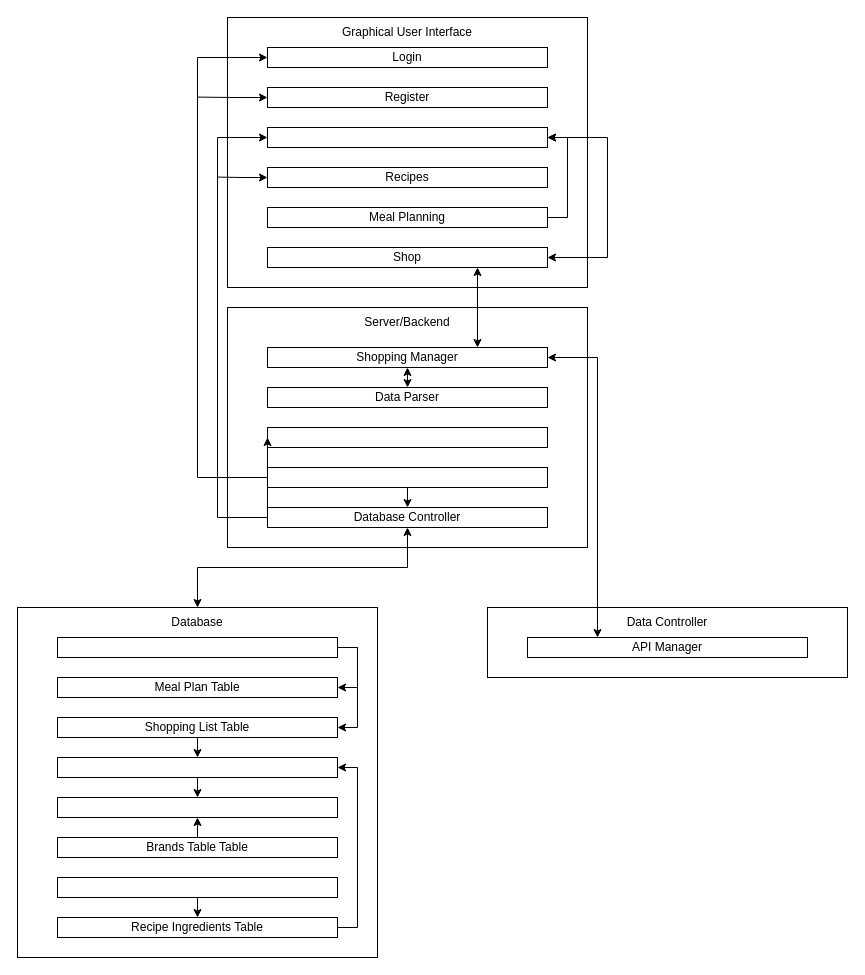
Image size: 865x975. Some labels were removed from this diagram. Each missing label, with the box of its shape:
Item Table: (56, 756, 338, 778)
Item-Brand Table: (56, 796, 338, 818)
Query Management: (266, 466, 548, 488)
Recipe Table: (56, 876, 338, 898)
Shopping List: (266, 126, 548, 148)
User Management: (266, 426, 548, 448)
User Table: (56, 636, 338, 658)
